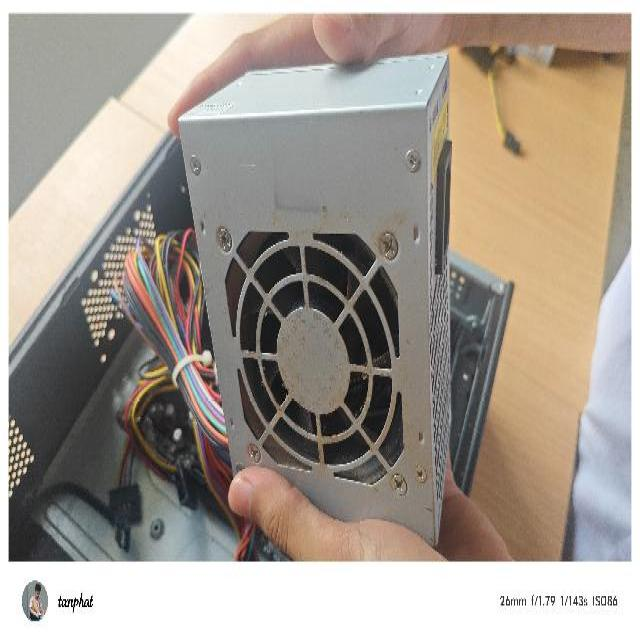PSU: (163, 52, 464, 550)
